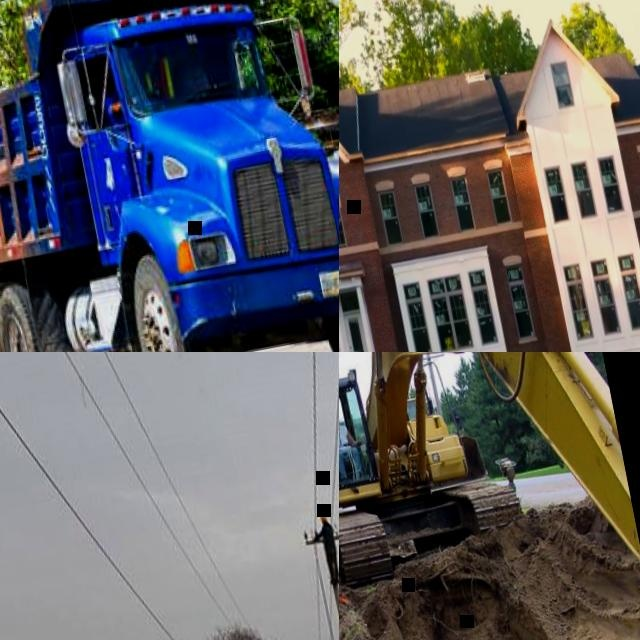Hardhat: (319, 512, 329, 522)
NO-Safety Vest: (321, 523, 335, 546), (339, 425, 351, 449)
Person: (312, 509, 339, 587), (339, 405, 366, 479)
machinery: (0, 0, 339, 352), (339, 352, 640, 640)
